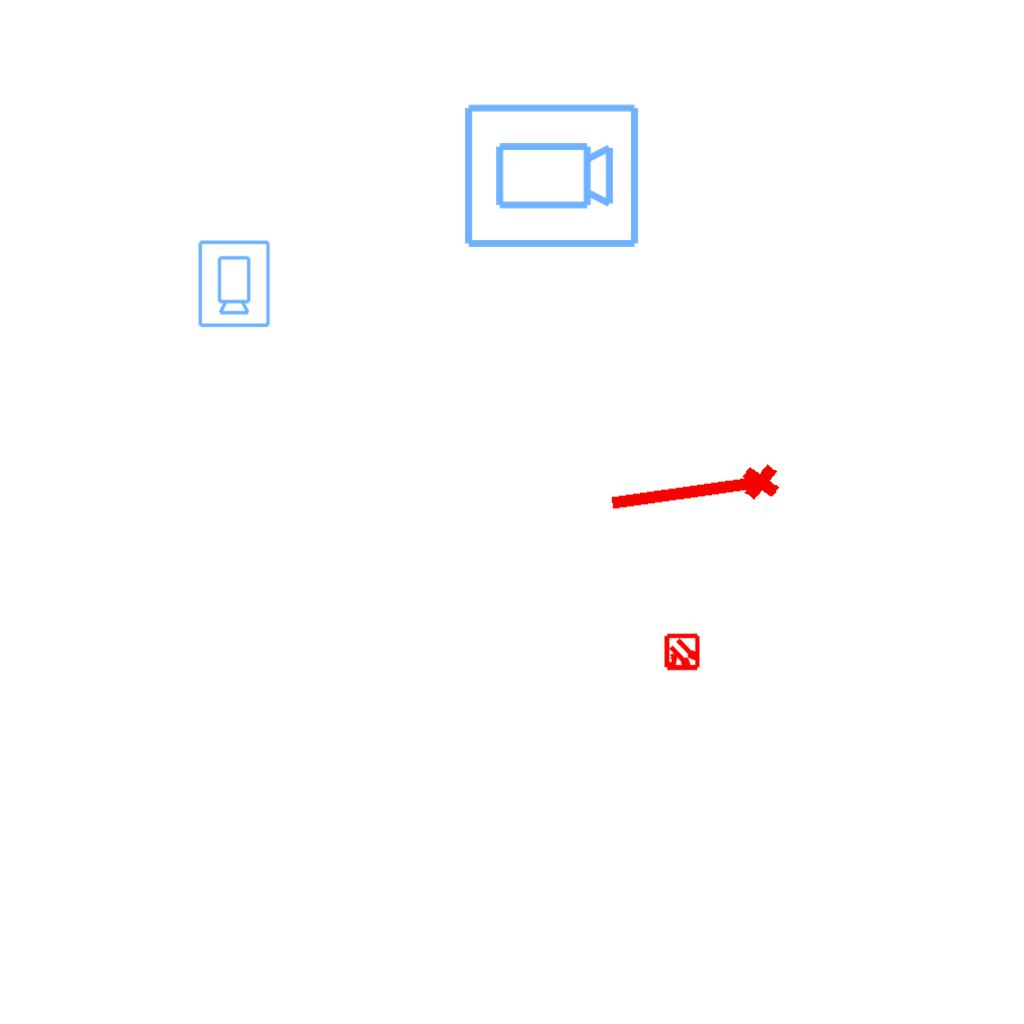ASR_Ansaugoeffnung: (603, 458, 785, 530)
KFO_Kamera_mit_Festobjektiv: (460, 100, 642, 254), (195, 238, 272, 329)
OT_Multisensormelder_(Kombination_RMO_WMD): (654, 625, 710, 681)
